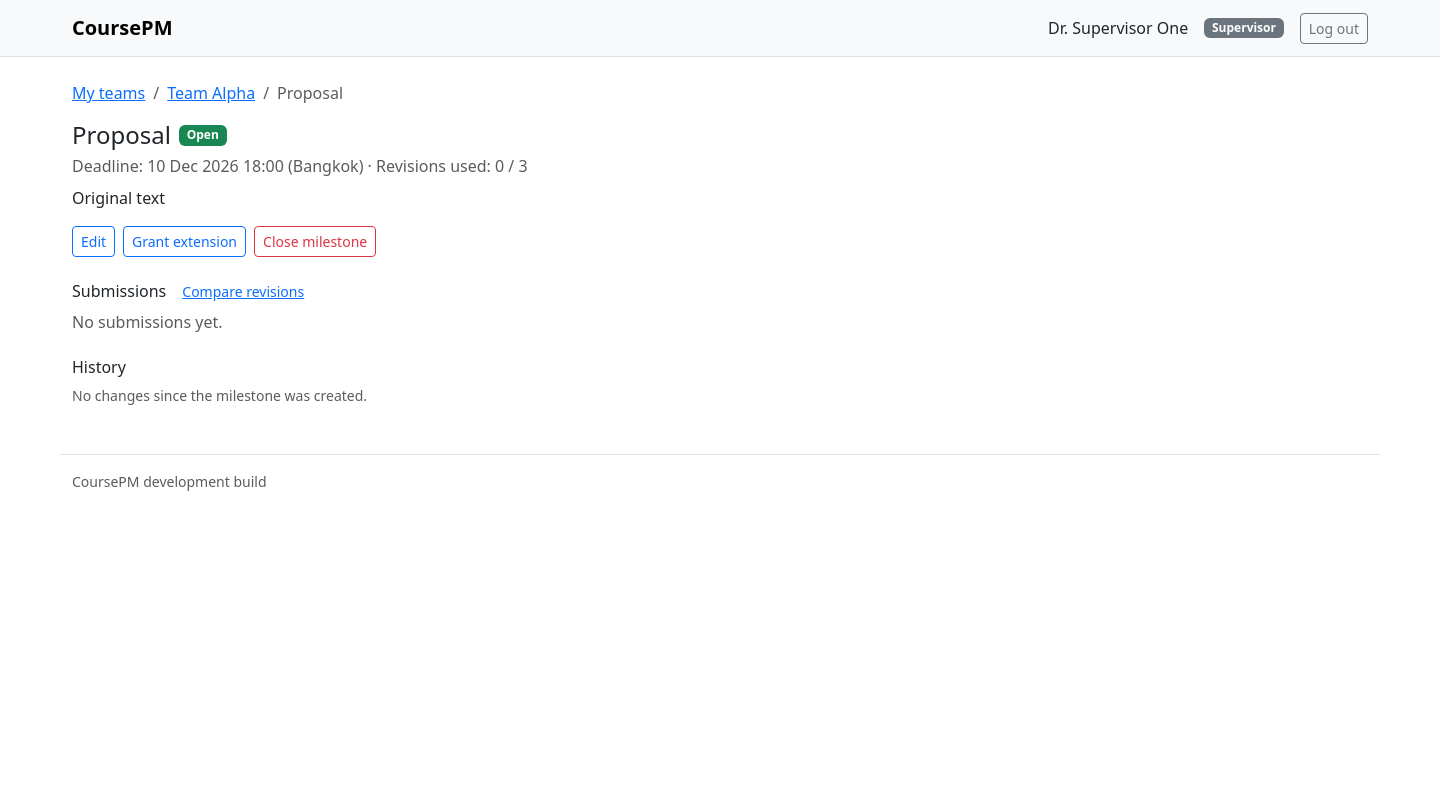
Scenario: TEST-UI-08 (AC-08-12): forms and errors › an unchanged edit sends the stored values and shows NO_CHANGE in the alert; a 409 also goes to the alert
Click the button "Edit".
click(94, 241)  # box [72,226,115,257]
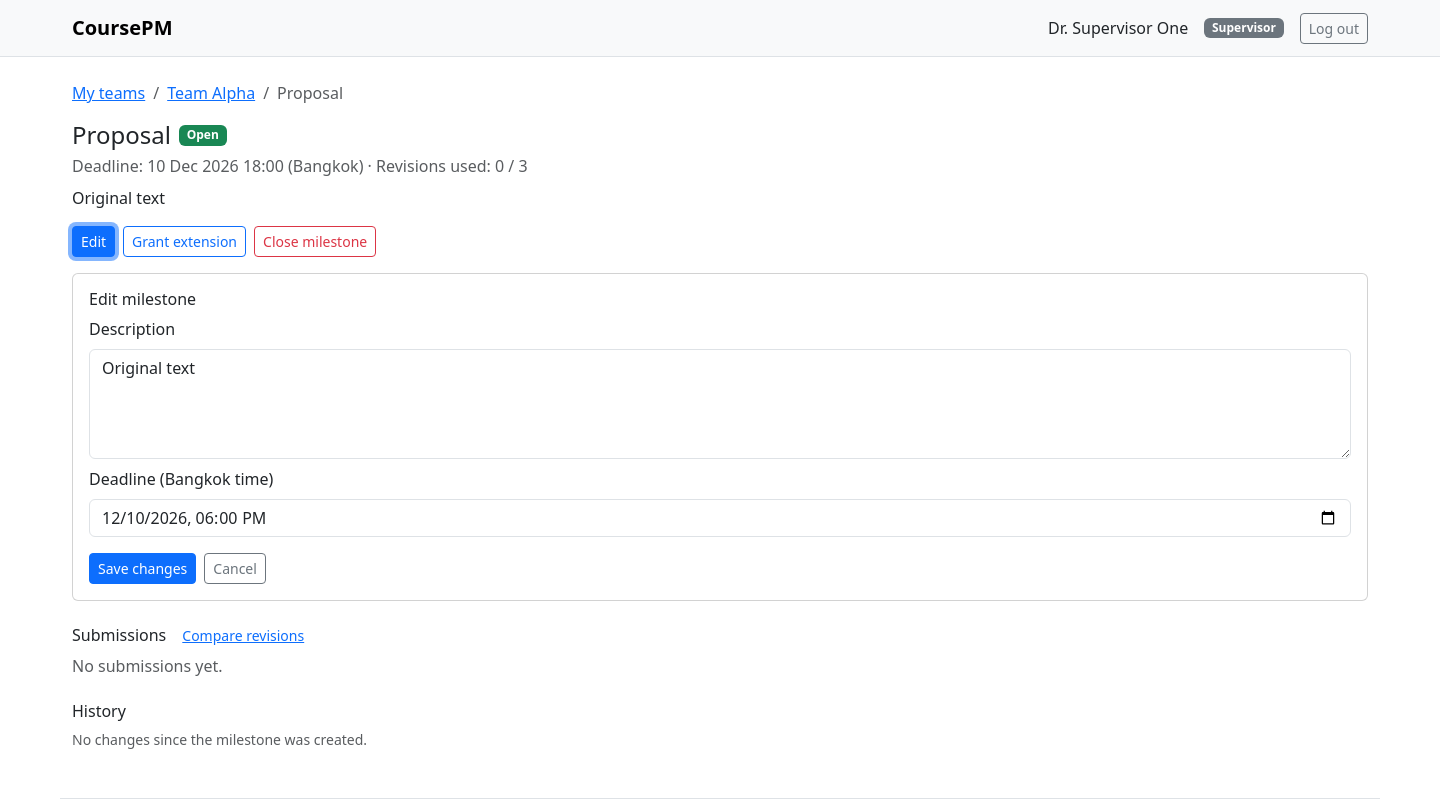
Click the button "Save changes".
click(143, 568)  # box [89,553,196,584]
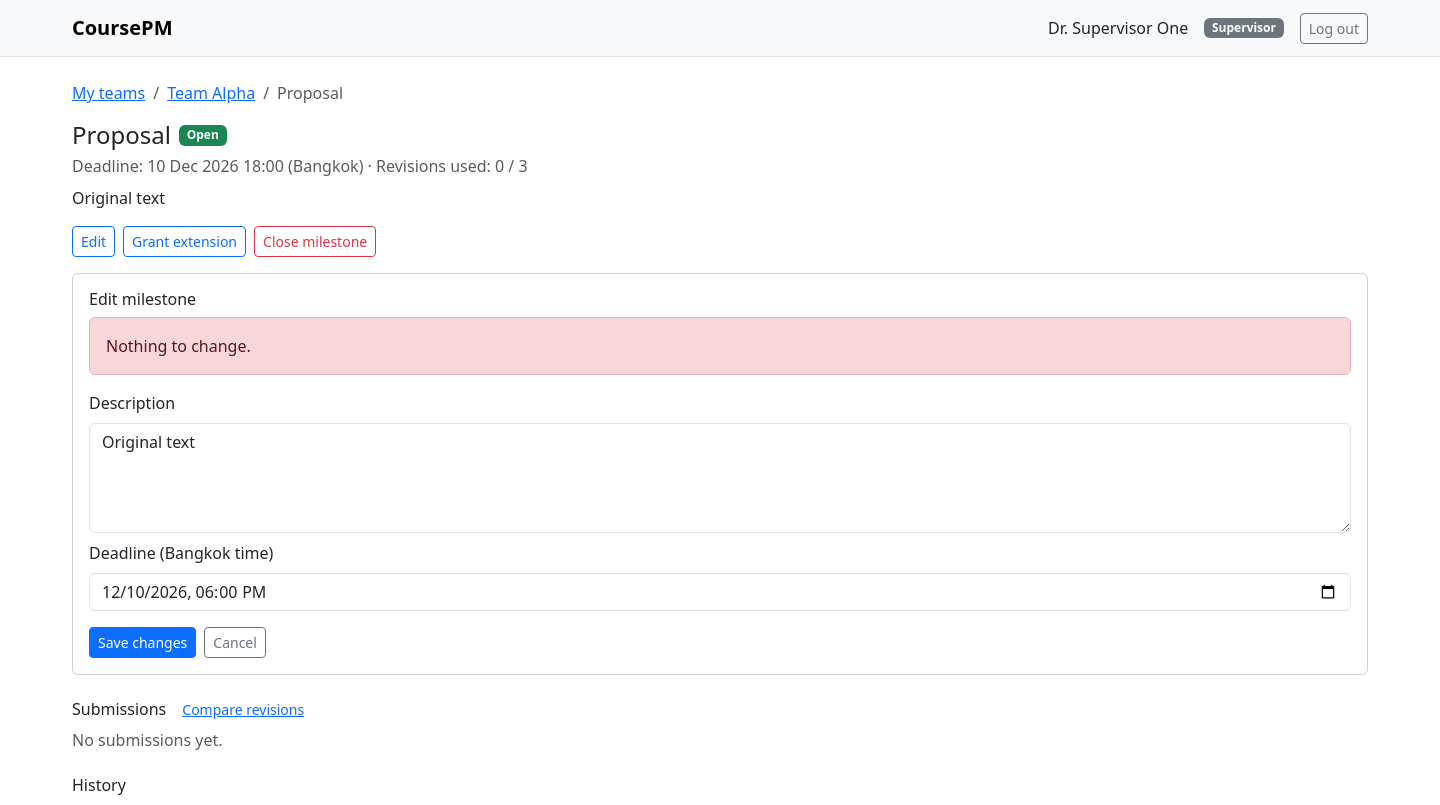
Expected: the message reads "Nothing to change.", [106,335,251,357]
Click the button "Save changes".
click(143, 642)  # box [89,627,196,658]
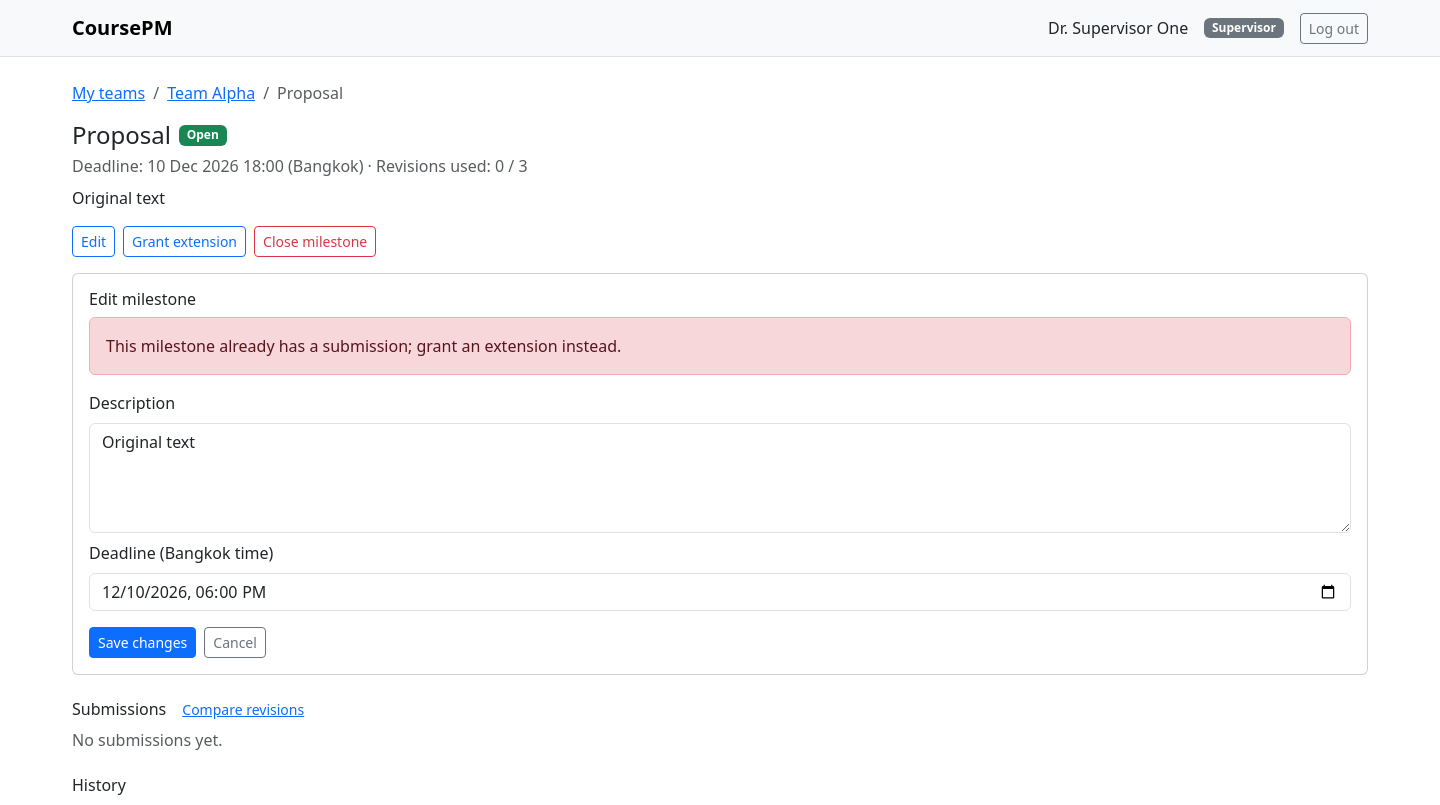
Expected: the message reads "This milestone already has a submission; grant an extension instead.", [106,335,621,357]
